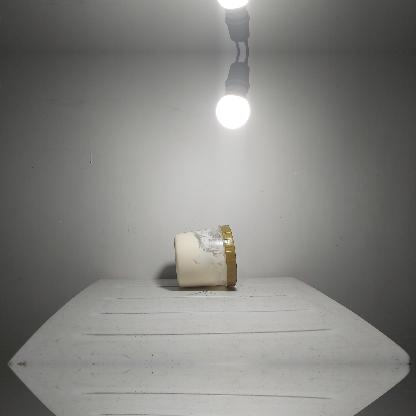Lady-s-Choice: (174, 224, 236, 288)
